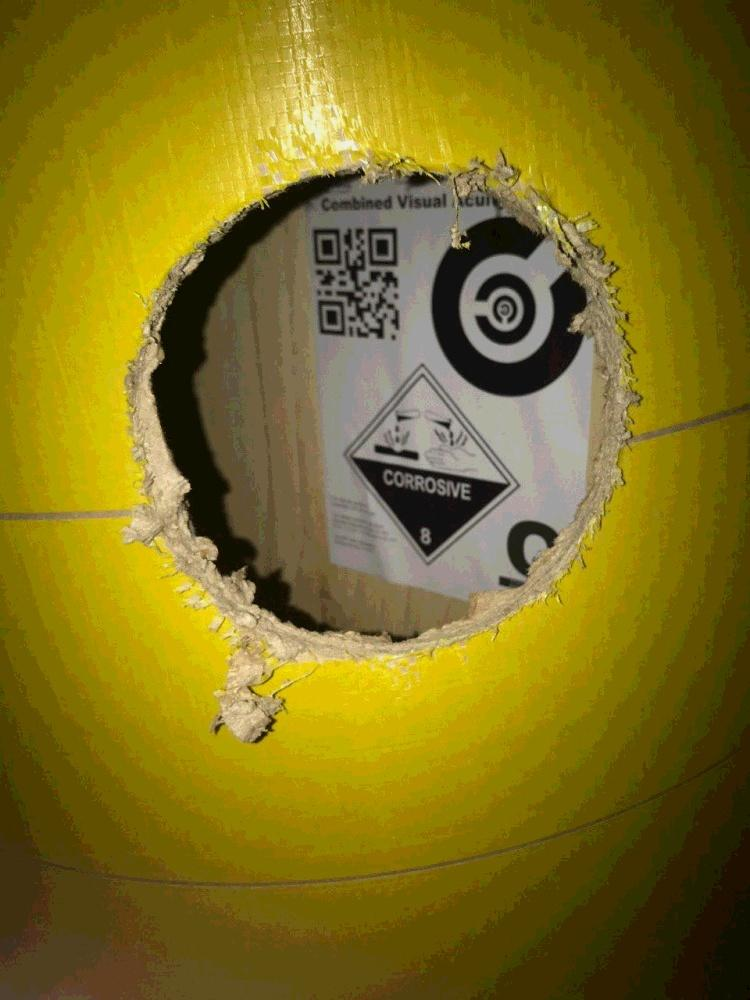corrosive: (337, 361, 519, 572)
